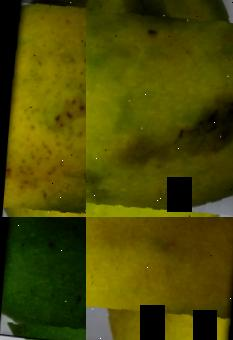PartiallyRipe: (86, 0, 233, 217), (0, 0, 86, 217)
Ripe: (86, 217, 233, 340)
Unripe: (0, 217, 86, 340)
